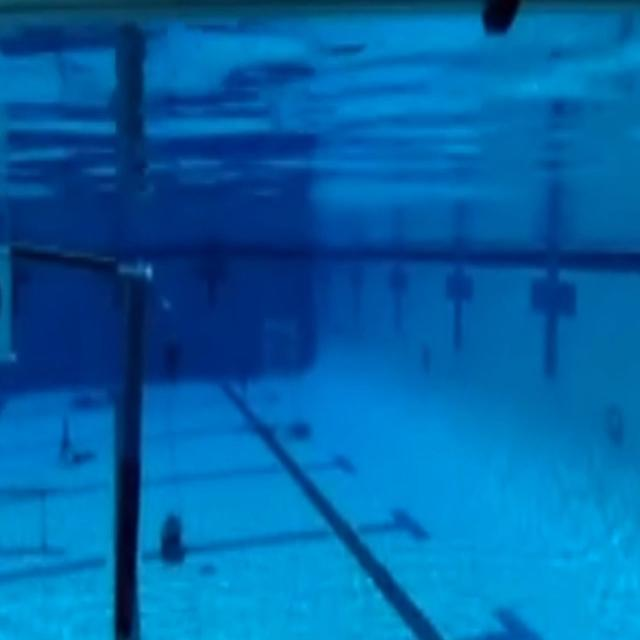Gate: (3, 236, 148, 637)
